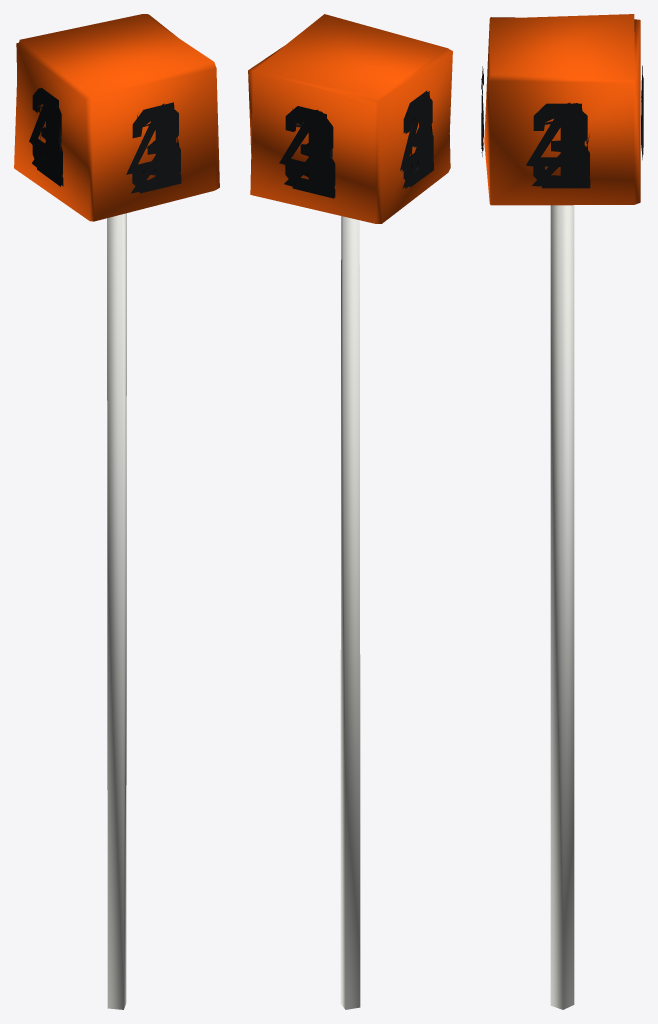
File: down_marker_lod1.glb
3 views of the same model, side by side, from view 1: azimuth 30°, elevation 25°; view 2: azimuth 150°, elevation 25°; view 3: azimuth 270°, elevation 25° (orthographic).
Parts seen in each view (by area): view 1: down_marker__prop_orange, down_marker__prop_white, down_2__prop_black, down_1__prop_black, down_3__prop_black, down_4__prop_black; view 2: down_marker__prop_orange, down_marker__prop_white, down_2__prop_black, down_4__prop_black, down_1__prop_black, down_3__prop_black; view 3: down_marker__prop_orange, down_marker__prop_white, down_3__prop_black, down_2__prop_black, down_1__prop_black, down_4__prop_black.
Boxes of the visible parts, x1,y1,x2,y2 form: down_marker__prop_orange: [14, 14, 219, 221]; down_marker__prop_white: [107, 213, 126, 1009]; down_2__prop_black: [32, 87, 180, 193]; down_1__prop_black: [34, 95, 181, 193]; down_3__prop_black: [32, 89, 180, 192]; down_4__prop_black: [29, 97, 180, 186]; down_marker__prop_orange: [248, 14, 452, 223]; down_marker__prop_white: [340, 216, 360, 1009]; down_2__prop_black: [284, 93, 433, 197]; down_4__prop_black: [279, 90, 431, 198]; down_1__prop_black: [287, 94, 433, 198]; down_3__prop_black: [285, 101, 433, 195]; down_marker__prop_orange: [484, 14, 640, 205]; down_marker__prop_white: [550, 205, 574, 1009]; down_3__prop_black: [481, 66, 643, 188]; down_2__prop_black: [481, 66, 643, 188]; down_1__prop_black: [536, 75, 643, 188]; down_4__prop_black: [481, 65, 643, 187].
Bounding box in the file's own units: 0.374 × 2.44 × 0.374.
